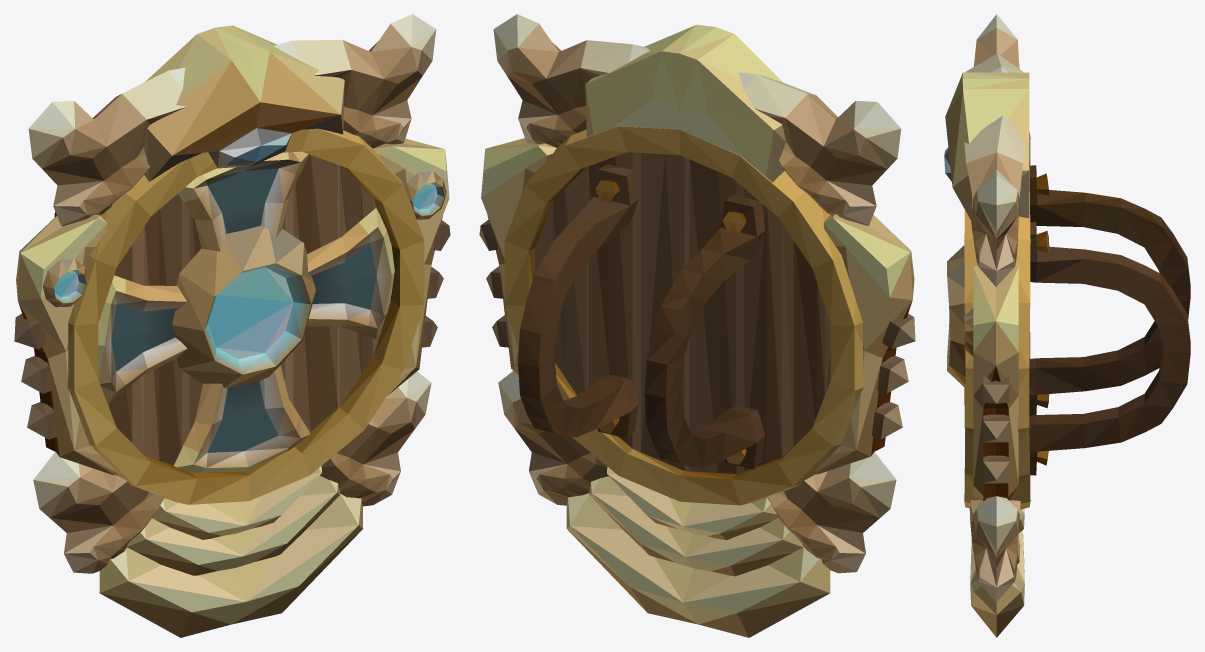
File: weapon_shield_gold_5.fbx
The picture shows the model from 3 angles, left to right: view 1: azimuth 30°, elevation 25°; view 2: azimuth 150°, elevation 25°; view 3: azimuth 270°, elevation 25°; orthographic projection. The views are drawn at different scales.
Parts seen in each view (by area): view 1: weapon_shield_gold_5; view 2: weapon_shield_gold_5; view 3: weapon_shield_gold_5.
Part boxes in pixels (left/top/right/bottom): weapon_shield_gold_5: left=14, top=14, right=450, bottom=637; weapon_shield_gold_5: left=479, top=14, right=915, bottom=637; weapon_shield_gold_5: left=944, top=14, right=1190, bottom=637.
Size of the model in its own units: 0.8146 by 1.04 by 0.4345.
